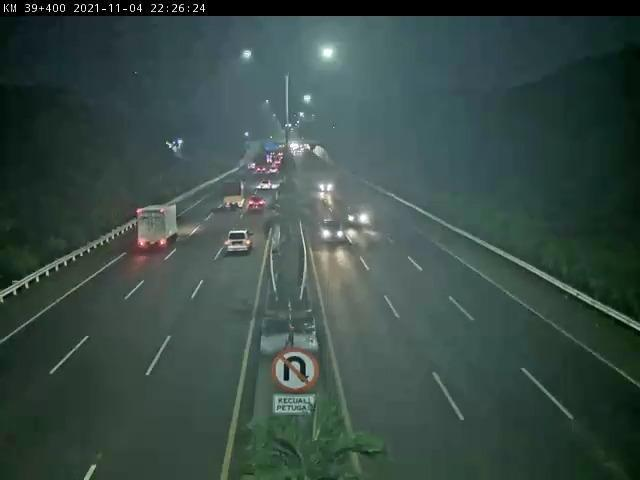car: (227, 230, 252, 254), (321, 220, 346, 243), (347, 207, 369, 229), (317, 178, 335, 194), (250, 198, 265, 213), (261, 181, 270, 191)
truck: (140, 204, 179, 248), (222, 182, 246, 208)
